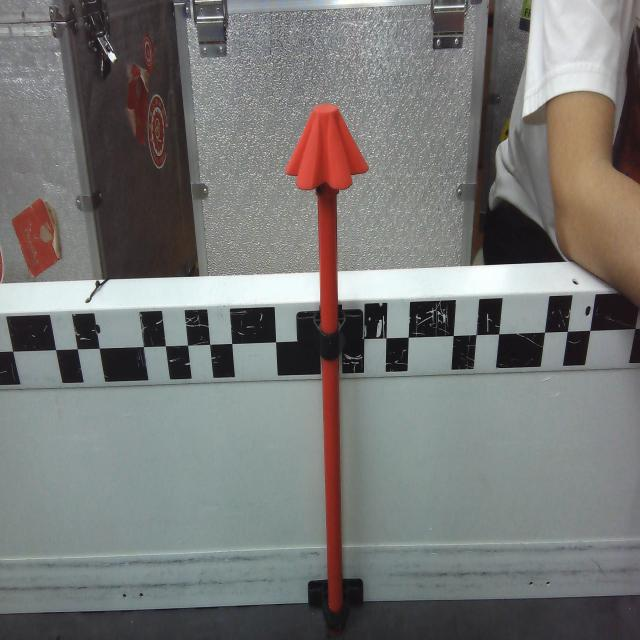zred-Stake-Head: (284, 104, 368, 190)
